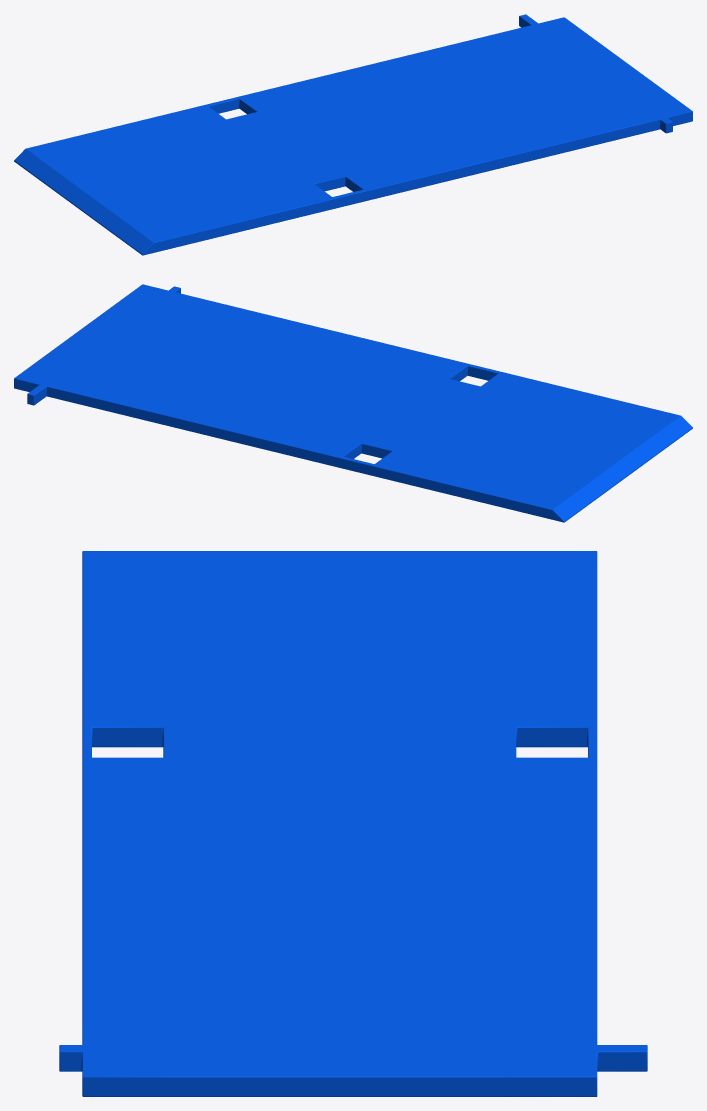
File: Cargo_Platform.fbx
3 views of the same model, one above another, from view 1: azimuth 30°, elevation 25°; view 2: azimuth 150°, elevation 25°; view 3: azimuth 270°, elevation 25° (orthographic). The views are drawn at different scales.
Parts seen in each view (by area): view 1: Vagon_Plataforma_Carga; view 2: Vagon_Plataforma_Carga; view 3: Vagon_Plataforma_Carga.
Part boxes in pixels (<box>): Vagon_Plataforma_Carga: <box>14,14,692,255</box>; Vagon_Plataforma_Carga: <box>14,284,692,522</box>; Vagon_Plataforma_Carga: <box>59,551,647,1096</box>.
Size of the model in its own units: 1405 by 25 by 650.
